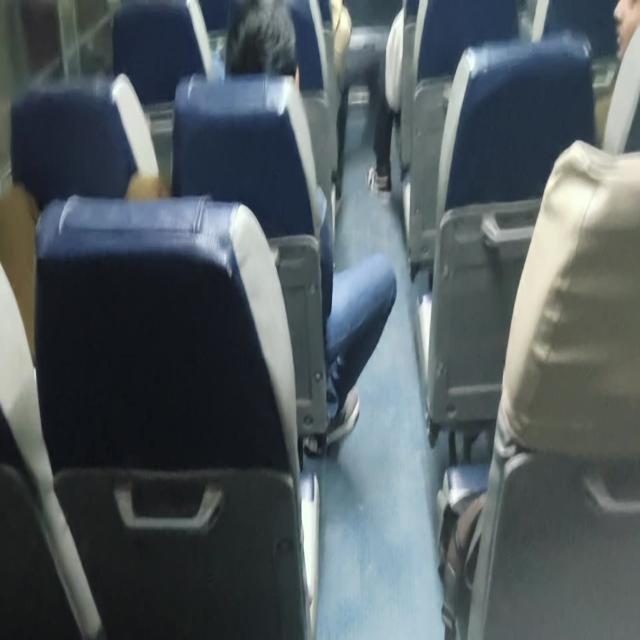person: (228, 0, 310, 96)
